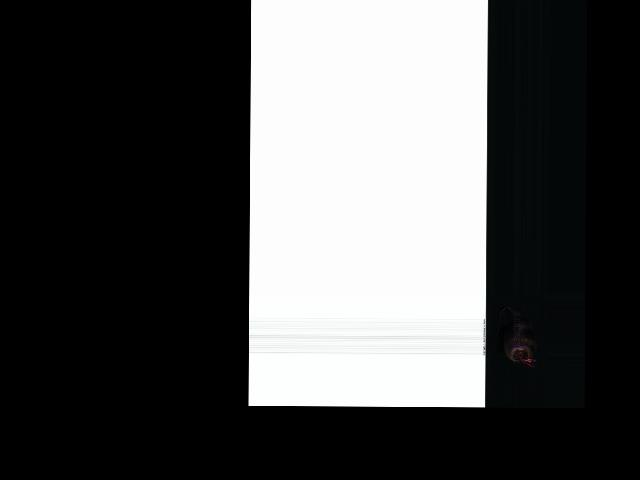beet: (495, 307, 536, 369)
